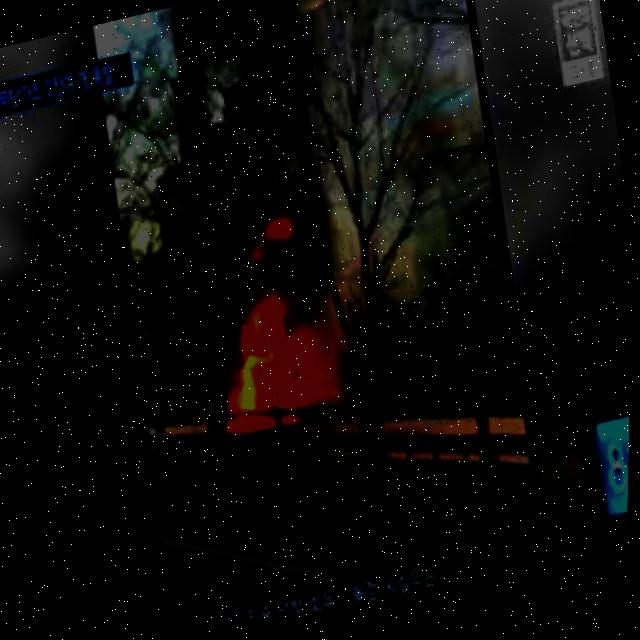Fire: (208, 288, 309, 428)
Smoke: (238, 0, 536, 411)
